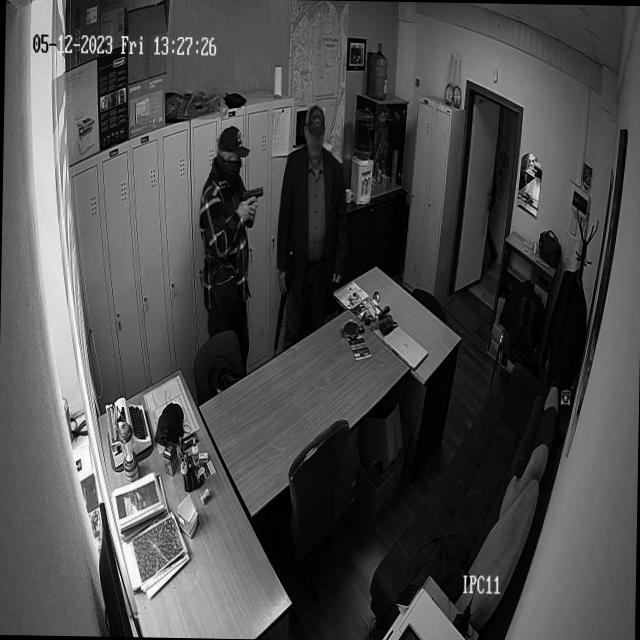gun: (274, 230, 293, 358), (239, 182, 265, 228)
person with a gun: (274, 103, 348, 314), (195, 124, 267, 327)
